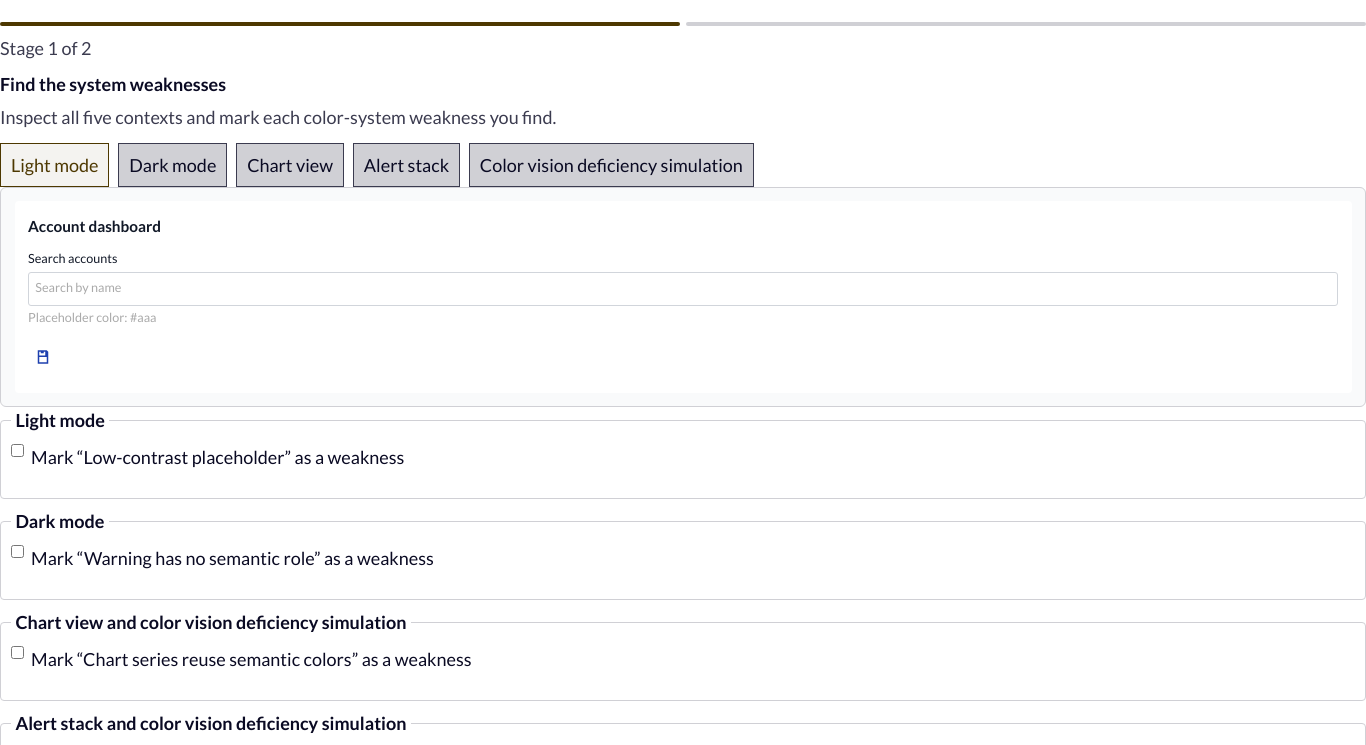
Test: SystemStressTestTool › hides classifications until every finding passes the first stage
Check: the text "Stage 1 of 2" is shown, box [0,37,91,59]
Click the checkbox labelled "Mark “Low-contrast placeholder” as a weakness".
click(17, 451)  # box [11,444,24,457]
(page scrolled)
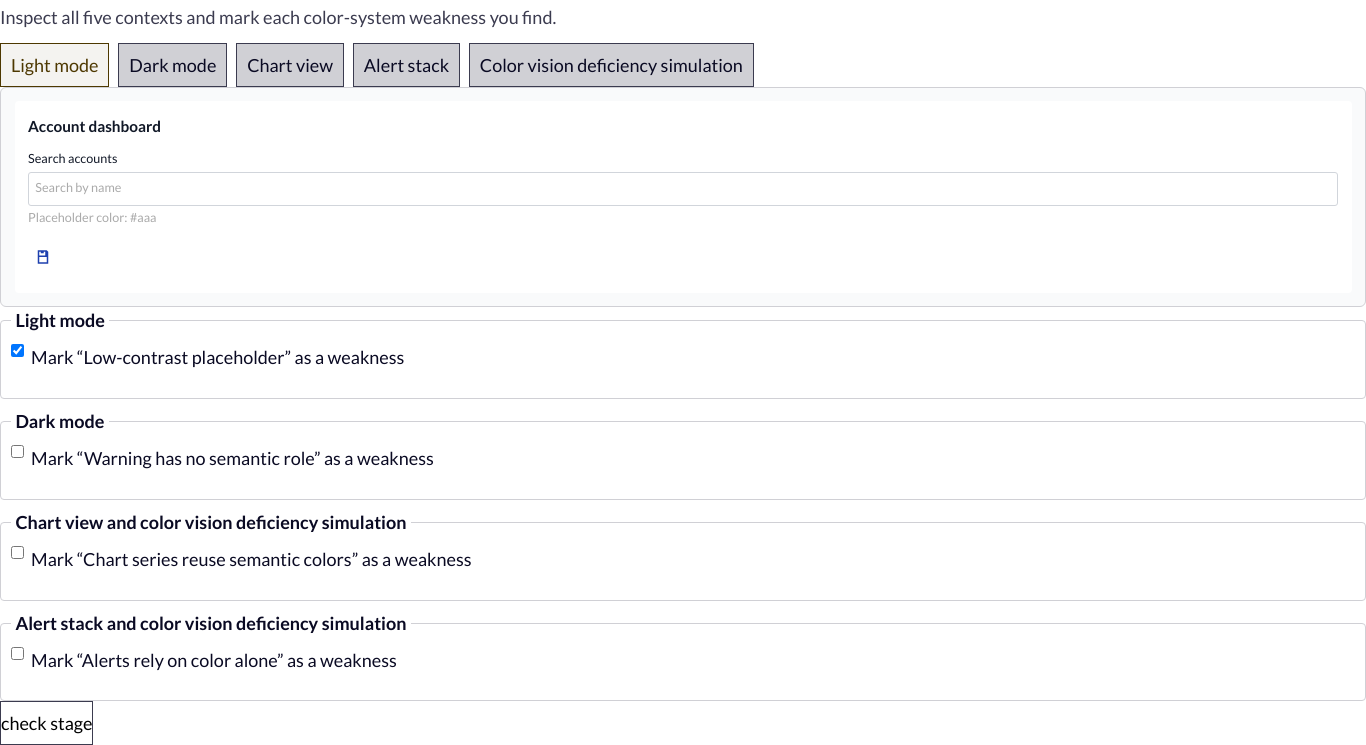
Click the button "check stage".
click(47, 724)  # box [0,702,94,744]
(page scrolled)
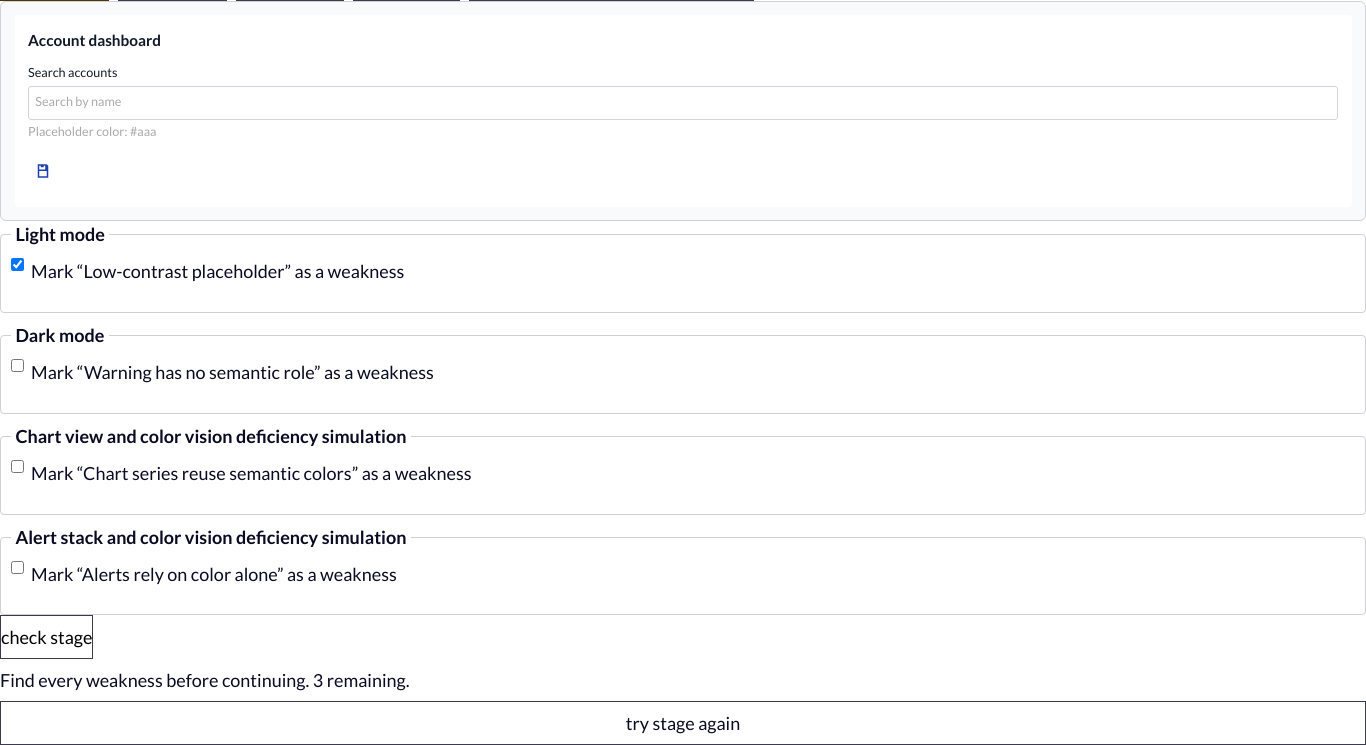
Check: the text "Find every weakness before continuing. 3 remaining." is shown, box [0,669,410,691]
